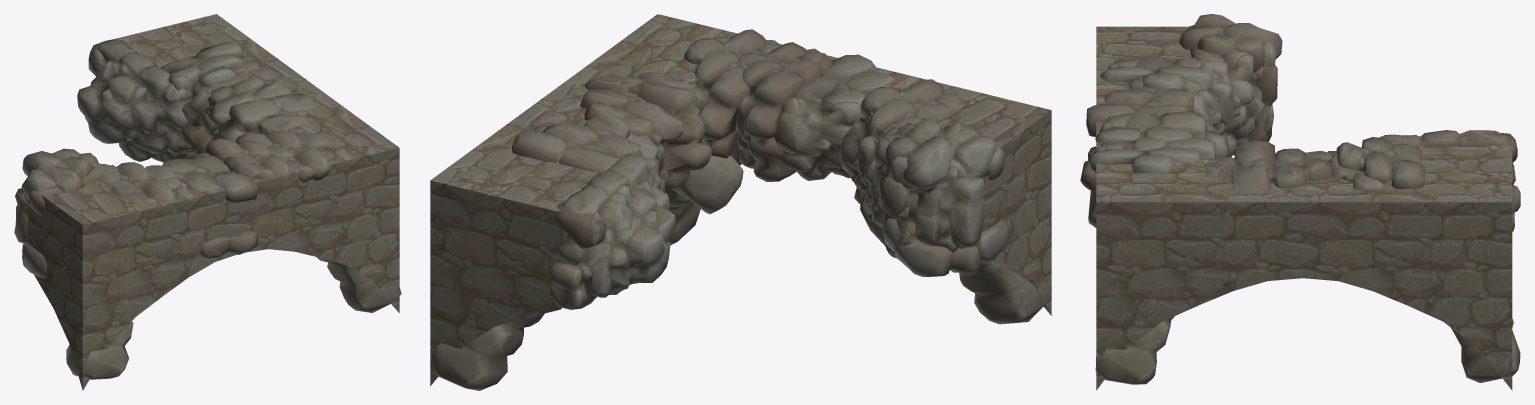
File: SM_FW01_Ruins_Int_Ceiling_A_4x4_Brkn_01.fbx
The picture shows the model from 3 angles, left to right: view 1: azimuth 30°, elevation 25°; view 2: azimuth 150°, elevation 25°; view 3: azimuth 270°, elevation 25°; orthographic projection. The views are drawn at different scales.
Visible parts, largest first — view 1: SM_FW01_Ruins_Int_Ceiling_A_4x4_Brkn_01, SM_FW01_Ruins_Int_Ceiling_A_4x4_Brkn_01_LOD0; view 2: SM_FW01_Ruins_Int_Ceiling_A_4x4_Brkn_01_LOD0, SM_FW01_Ruins_Int_Ceiling_A_4x4_Brkn_01; view 3: SM_FW01_Ruins_Int_Ceiling_A_4x4_Brkn_01, SM_FW01_Ruins_Int_Ceiling_A_4x4_Brkn_01_LOD0.
Part boxes in pixels (x1,y1,x2,y2): SM_FW01_Ruins_Int_Ceiling_A_4x4_Brkn_01: (27, 14, 399, 390); SM_FW01_Ruins_Int_Ceiling_A_4x4_Brkn_01_LOD0: (14, 39, 401, 379); SM_FW01_Ruins_Int_Ceiling_A_4x4_Brkn_01_LOD0: (430, 29, 1051, 390); SM_FW01_Ruins_Int_Ceiling_A_4x4_Brkn_01: (430, 14, 1051, 385); SM_FW01_Ruins_Int_Ceiling_A_4x4_Brkn_01: (1096, 26, 1512, 390); SM_FW01_Ruins_Int_Ceiling_A_4x4_Brkn_01_LOD0: (1080, 14, 1520, 384).
Size of what is drawn, in the model's own units: 4.14 by 2.2 by 4.23.
